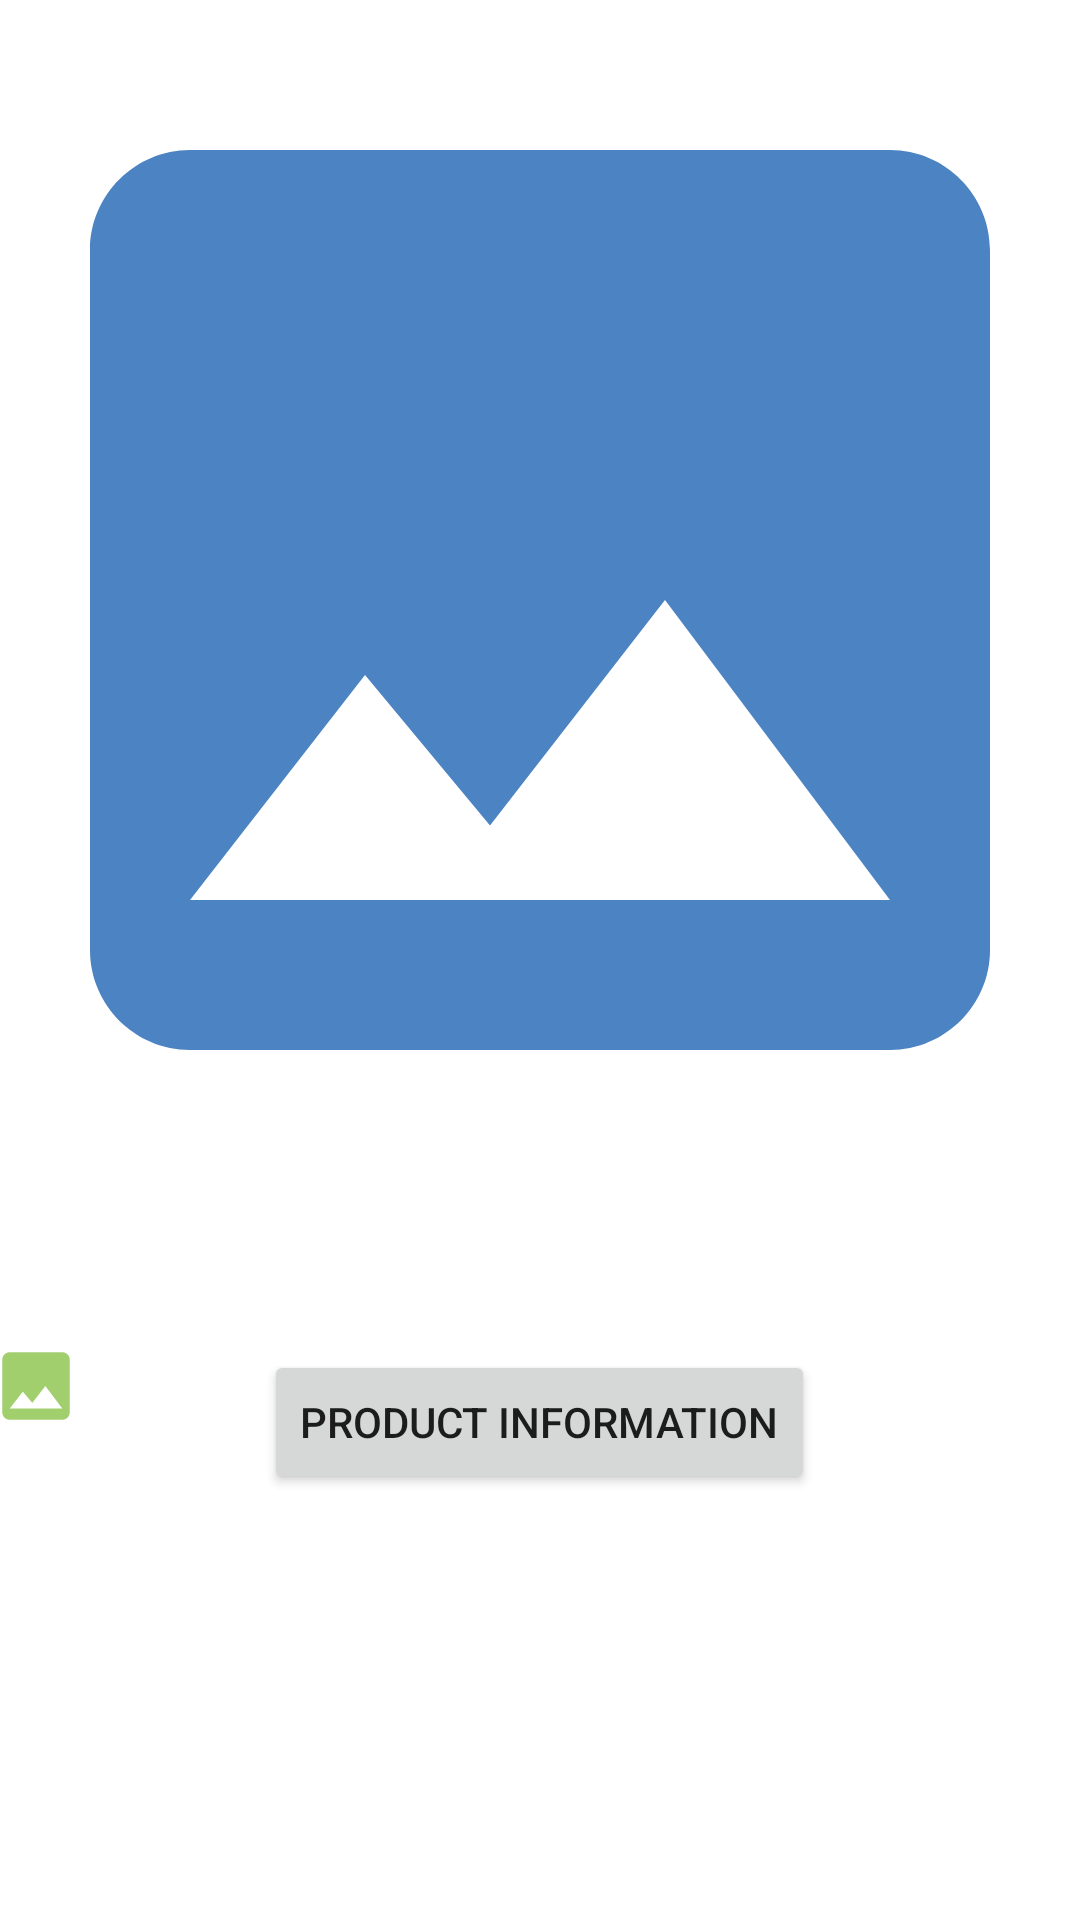

Icons on this 1080*1920 Android screen, each with the point to tap as [x,y]:
gallerybtn: [36,1386]
